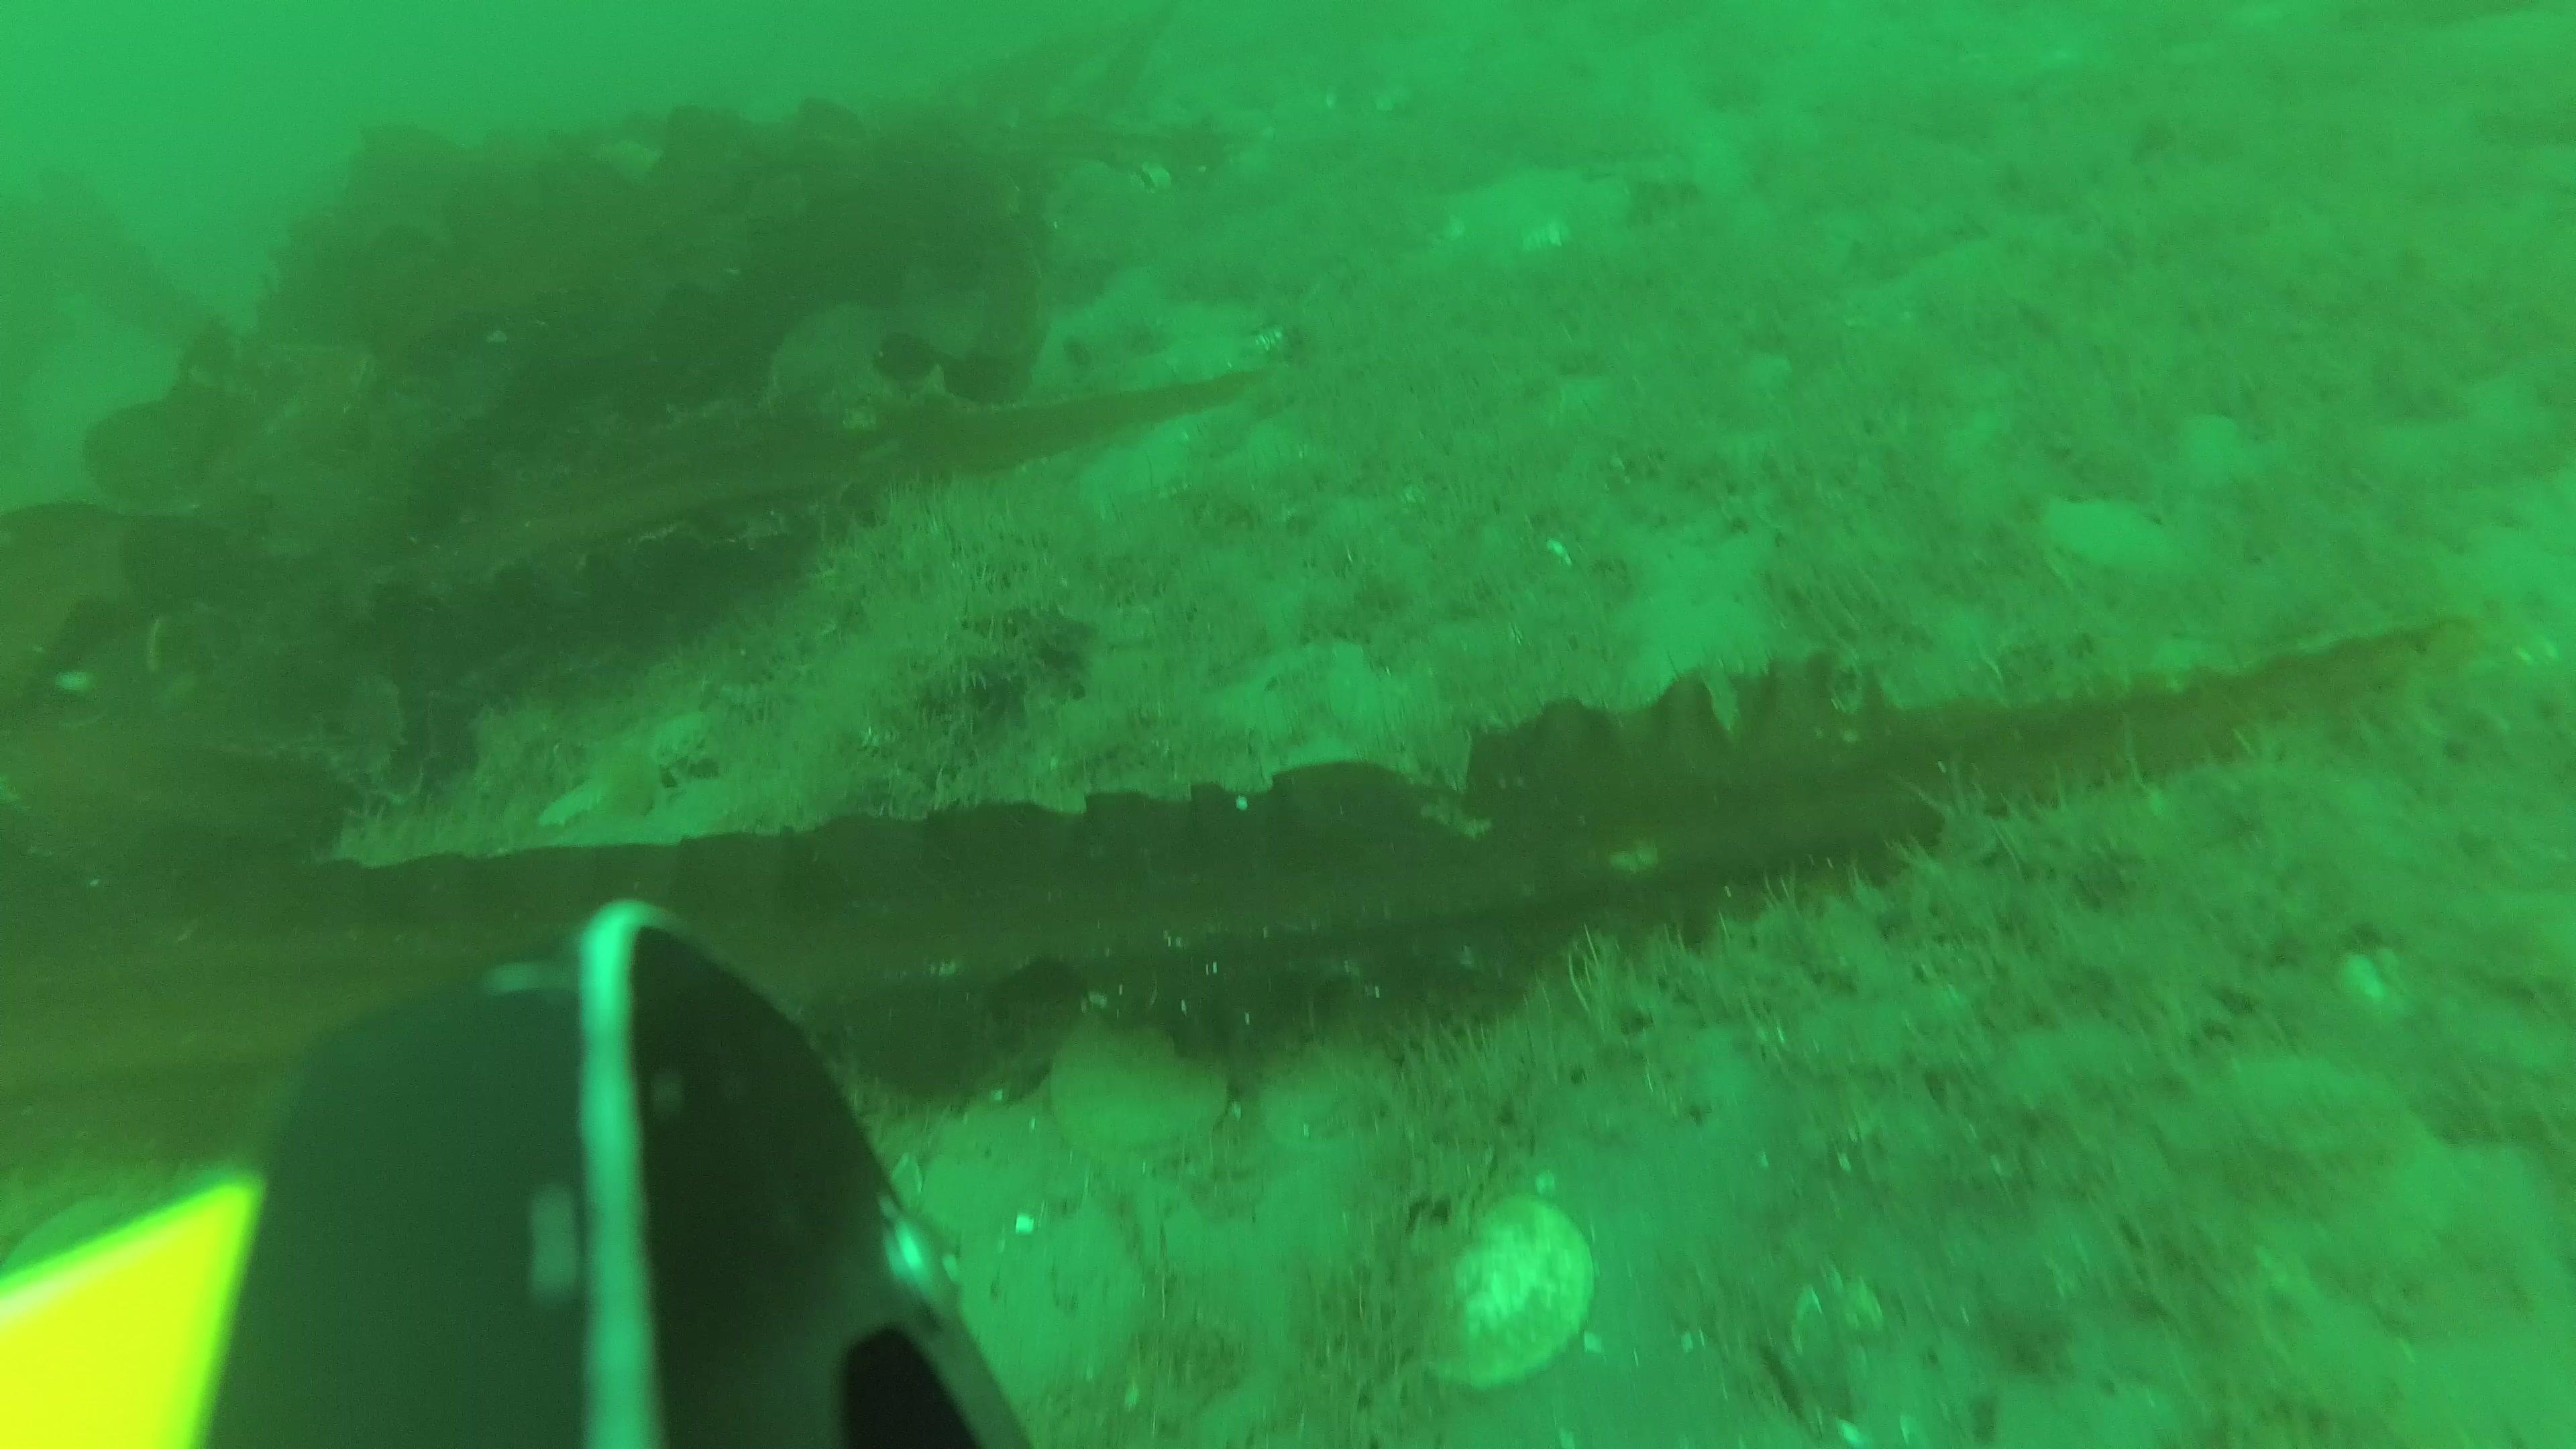scallop: (1428, 1194, 1598, 1380), (1047, 1010, 1231, 1152)
